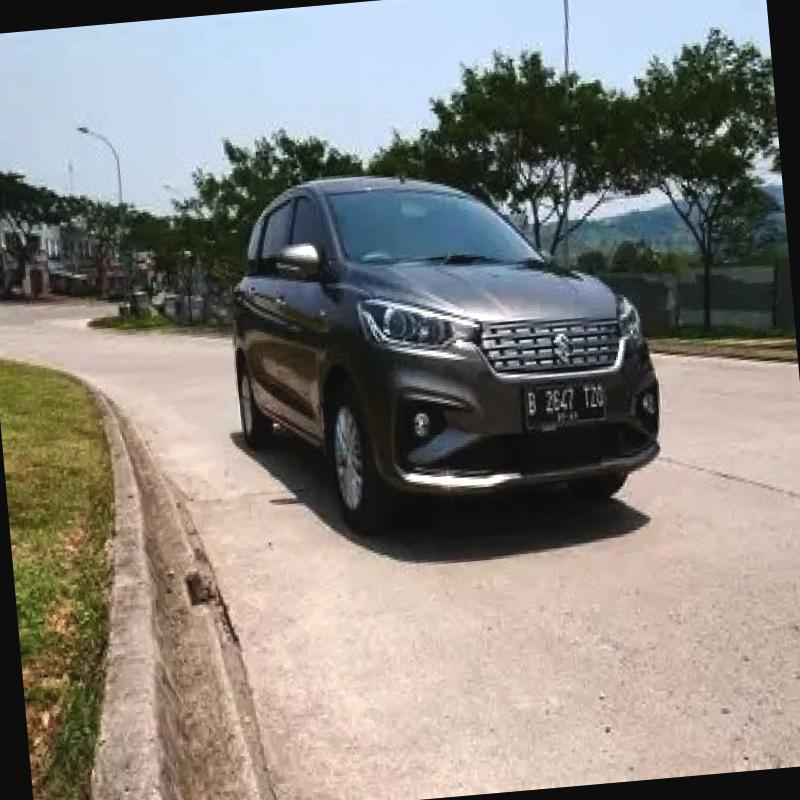license plate on a car: (520, 376, 615, 434)
